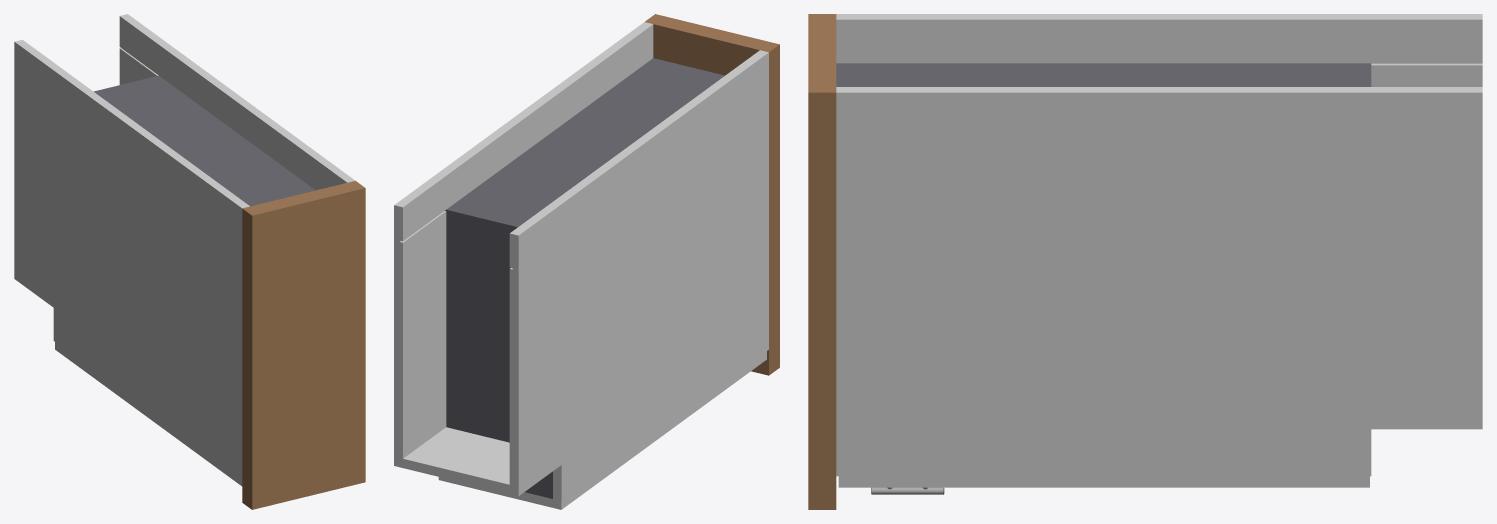
File: Kitchen Cabinets_25CM Highline Cabinet (3).obj
3 renders of one model, left to right at view 1: azimuth 30°, elevation 25°; view 2: azimuth 150°, elevation 25°; view 3: azimuth 270°, elevation 25°, orthographic. The views are drawn at different scales.
Parts seen in each view (by area): view 1: RH_Panel_(6), Worktop_(6), BackPanel_(6), LH_Panel_(6), Door_(6); view 2: RH_Panel_(6), LH_Panel_(6), BackPanel_(6), Bottom_Shelf_(6), Worktop_(6), Plinth_(6), Door_(6); view 3: LH_Panel_(6), RH_Panel_(6), Worktop_(6), BackPanel_(6), Door_(6), Plinth_(6).
Part boxes in pixels (box(x1,y1,x2,y2)): RH_Panel_(6): box(14, 39, 249, 478); Worktop_(6): box(242, 181, 365, 509); BackPanel_(6): box(94, 75, 315, 206); LH_Panel_(6): box(119, 14, 355, 190); Door_(6): box(55, 342, 242, 486); RH_Panel_(6): box(509, 50, 768, 501); LH_Panel_(6): box(394, 22, 653, 458); BackPanel_(6): box(445, 58, 724, 228); Bottom_Shelf_(6): box(446, 211, 552, 498); Worktop_(6): box(645, 14, 779, 375); Plinth_(6): box(394, 427, 561, 496); Door_(6): box(438, 351, 766, 509); LH_Panel_(6): box(836, 87, 1482, 476); RH_Panel_(6): box(836, 14, 1482, 86); Worktop_(6): box(808, 14, 836, 509); BackPanel_(6): box(836, 63, 1371, 86); Door_(6): box(838, 476, 1369, 487); Plinth_(6): box(1371, 417, 1482, 429).
Bounding box in the file's own units: 0.25 × 0.62 × 0.908.
